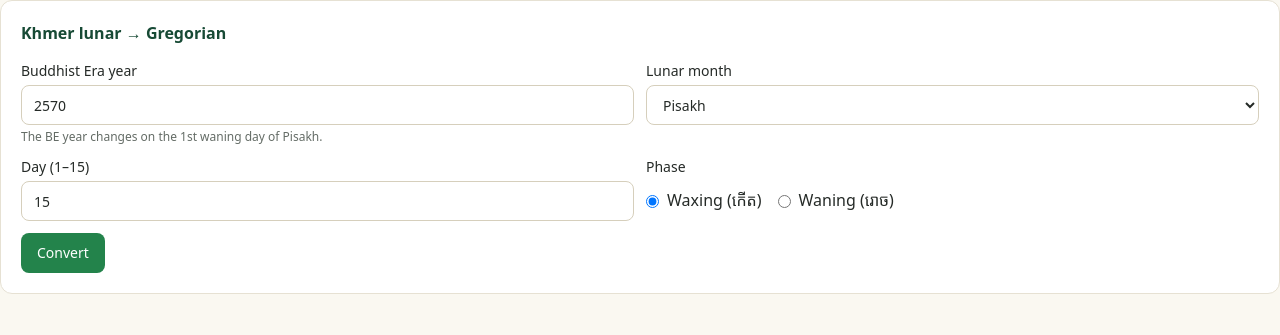
date converter › validates lunar day range
Replace the text in the number field labelled "Day (1–15)" with "16". click: {"x": 328, "y": 201}
box: [21,181,634,221]
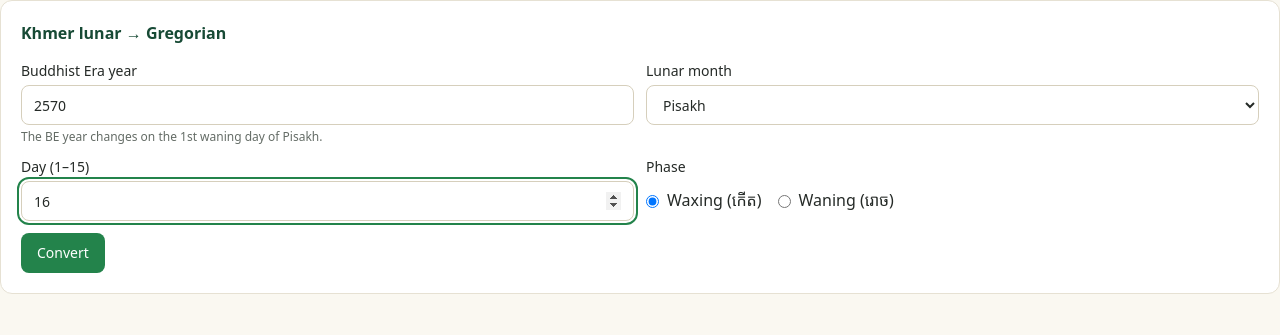
Click the button "Convert". click: {"x": 63, "y": 253}
box: [21,233,105,273]
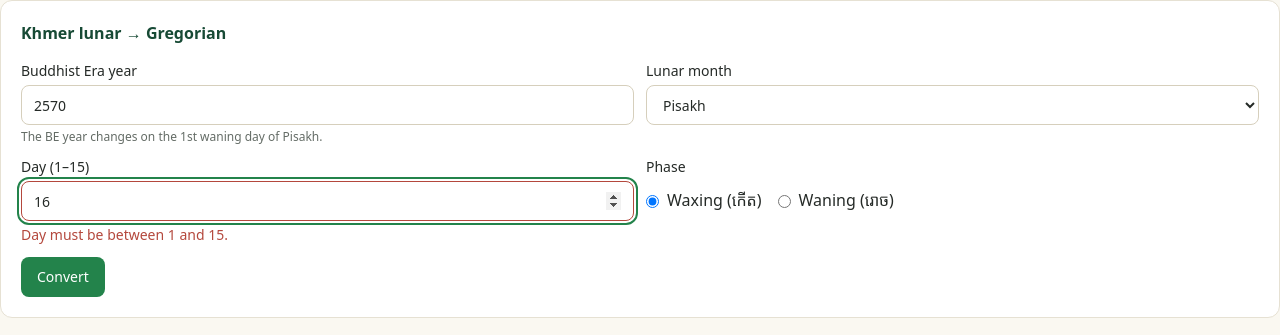
Expected: the text "Day must be between 1 and 15." is shown, [21,225,228,244]
